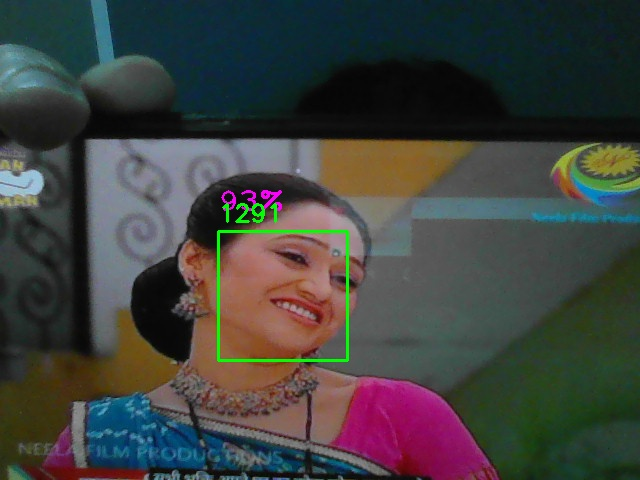fake: (218, 231, 348, 361)
